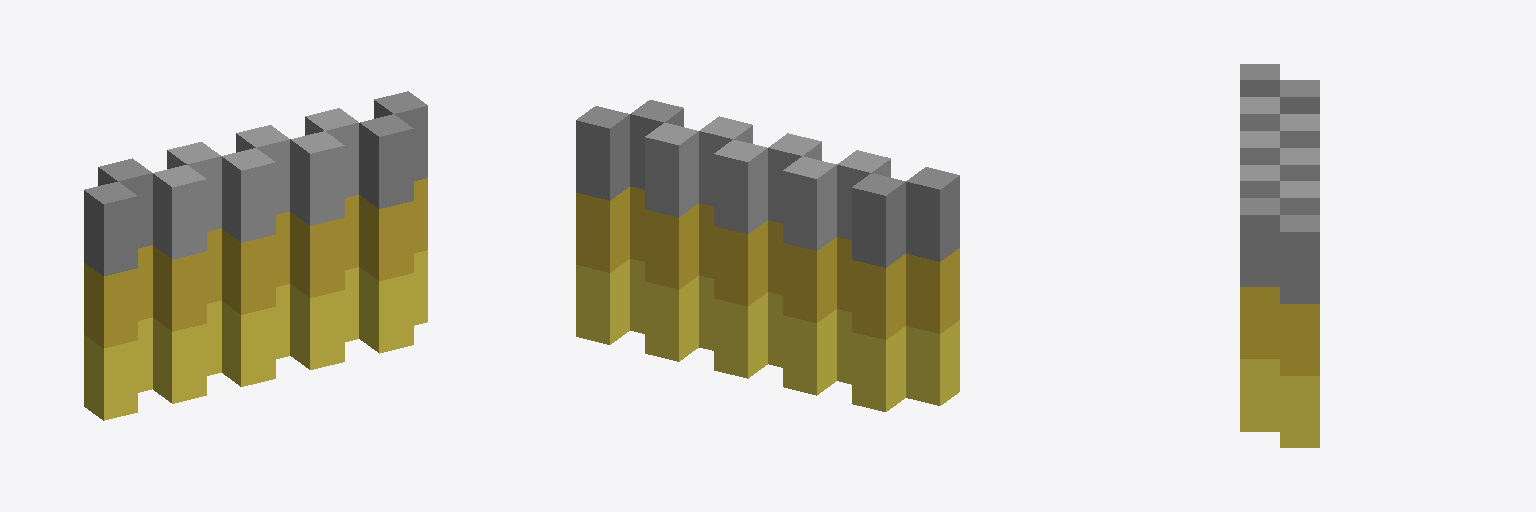
The picture shows the model from 3 angles: view 1: azimuth 30°, elevation 25°; view 2: azimuth 150°, elevation 25°; view 3: azimuth 270°, elevation 25°; orthographic projection.
Visible parts, largest first — view 1: S&W Stack; view 2: S&W Stack; view 3: S&W Stack.
Boxes of the visible parts, box(x1,y1,x2,y2) form: S&W Stack: box(84, 91, 427, 420); S&W Stack: box(576, 100, 959, 411); S&W Stack: box(1240, 64, 1319, 447).
Size of the model in its own units: 1 by 0.6 by 0.2.
1 materials, 1 textured.